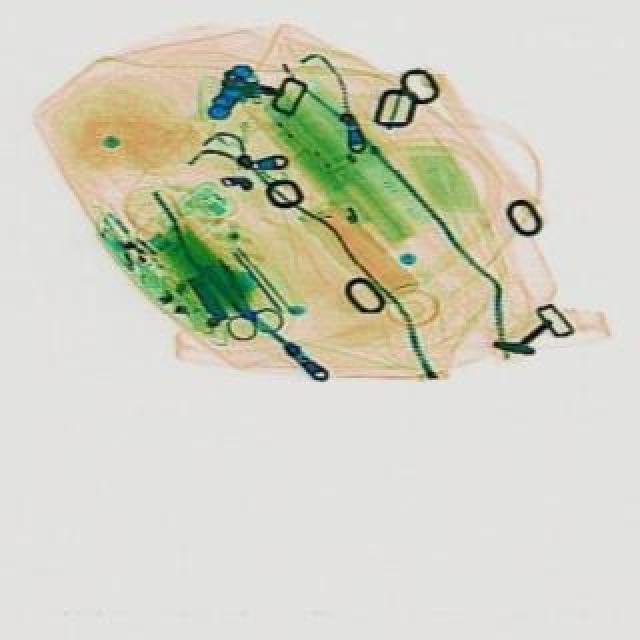pliers: (202, 252, 290, 352)
